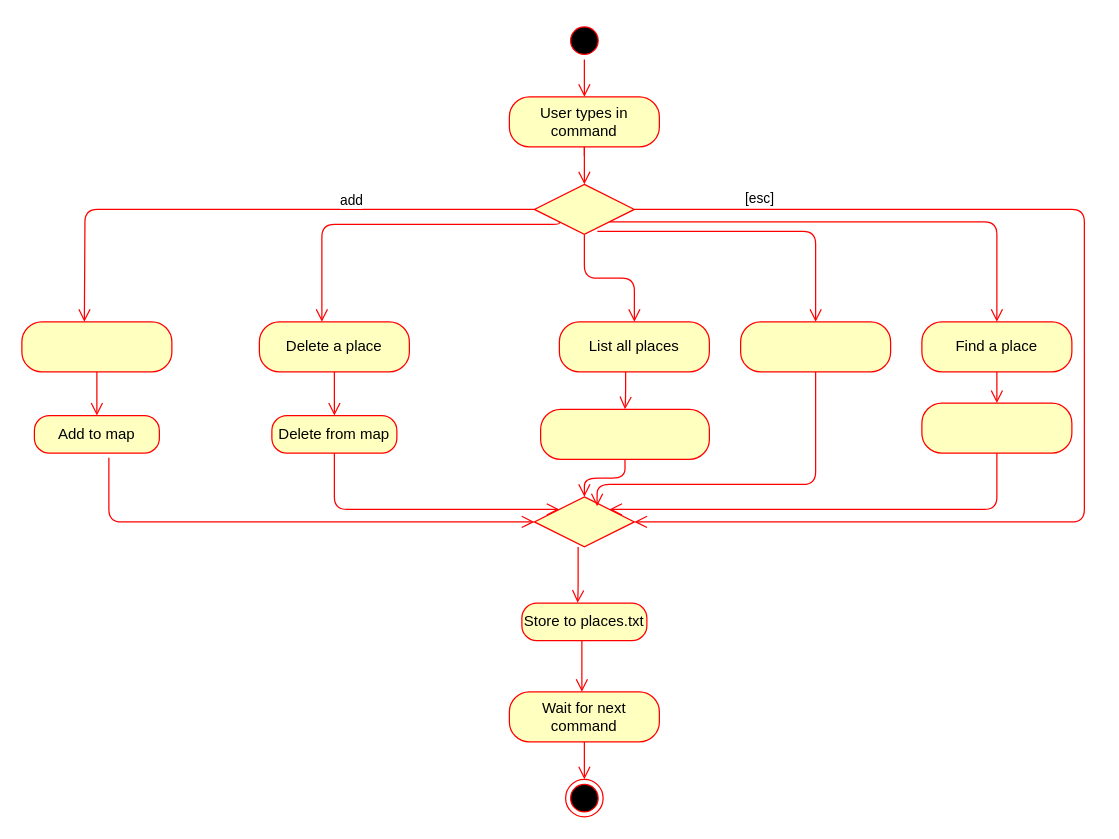
Some shapes in this 1119 by 839 pixel diagram are drawn without their labels. Here are the shapes that lost their labels. From the top down, the box of each, then its label:
(21, 321, 172, 372): Add new place
(739, 321, 891, 372): Undo command
(539, 408, 709, 459): Iterate through the map and print key value pair
(921, 402, 1072, 453): Search through the map if exist, print
